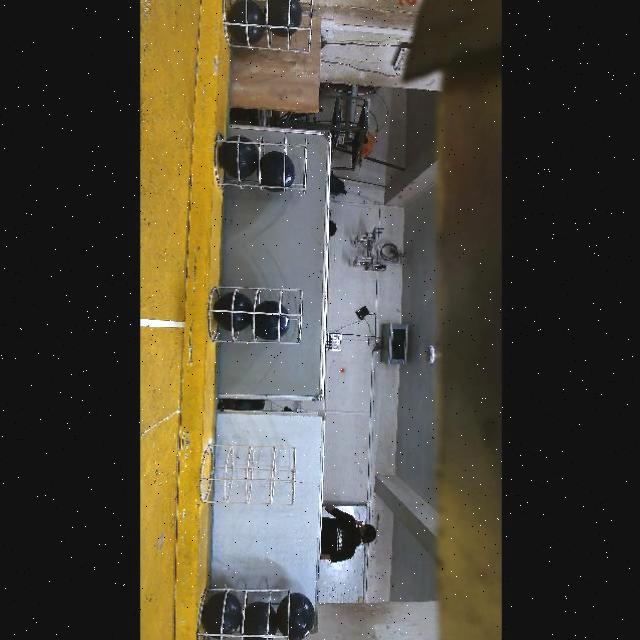P: (200, 592, 240, 639), (275, 593, 314, 640), (218, 135, 257, 179), (249, 300, 289, 340), (255, 151, 294, 192), (213, 292, 251, 331), (226, 2, 264, 41), (238, 601, 276, 640), (262, 0, 299, 34)
S: (206, 132, 310, 190), (203, 288, 304, 342), (204, 442, 290, 502), (225, 0, 312, 52), (201, 588, 287, 640)
